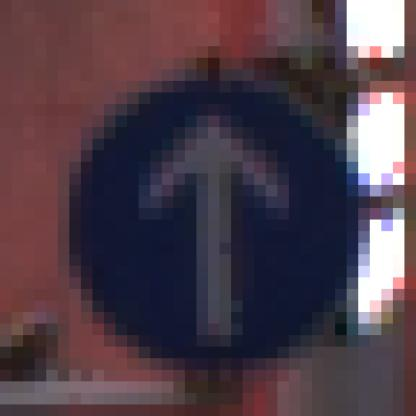AheadOnly: (59, 59, 348, 359)
